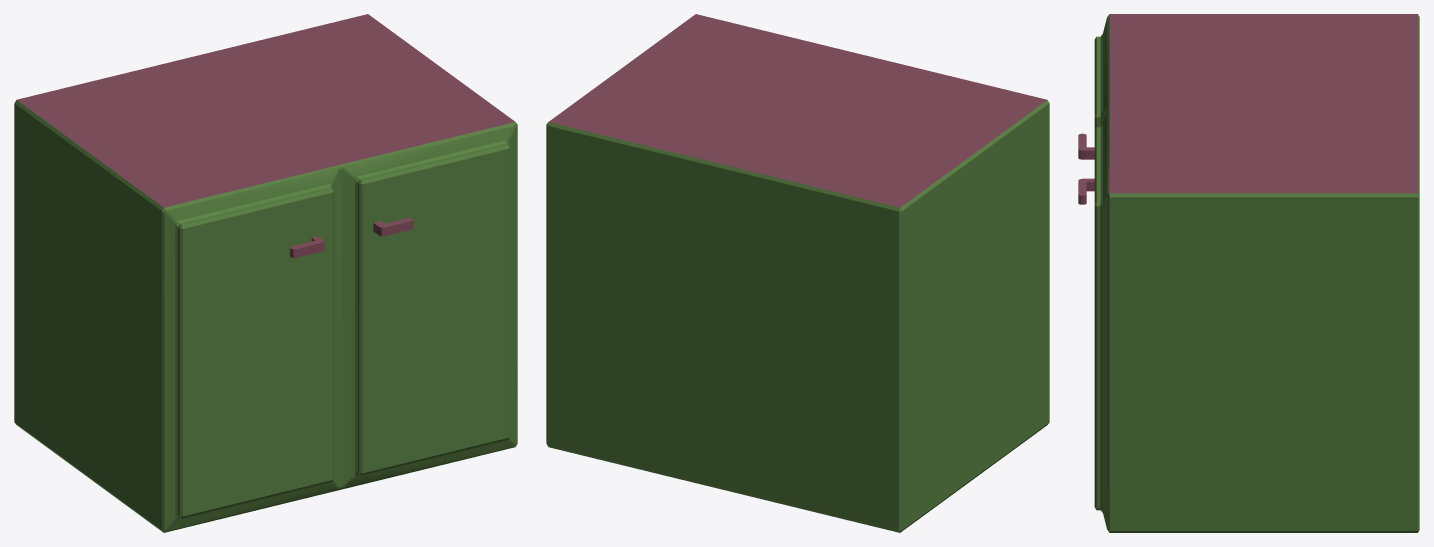
The model's file is sinkCabinet.fbx.
3 views of the same model, side by side, from view 1: azimuth 30°, elevation 25°; view 2: azimuth 150°, elevation 25°; view 3: azimuth 270°, elevation 25° (orthographic). The views are drawn at different scales.
Parts seen in each view (by area): view 1: cabinetsink; view 2: cabinetsink; view 3: cabinetsink.
Part boxes in pixels (left/top/right/bottom): cabinetsink: left=14, top=14, right=517, bottom=532; cabinetsink: left=546, top=14, right=1049, bottom=532; cabinetsink: left=1078, top=14, right=1419, bottom=532.
Size of the model in its own units: 1.43 by 1.25 by 1.14.
